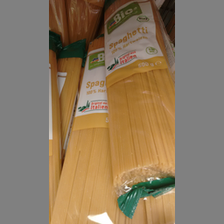pasta: (105, 1, 176, 210), (52, 39, 123, 223)
